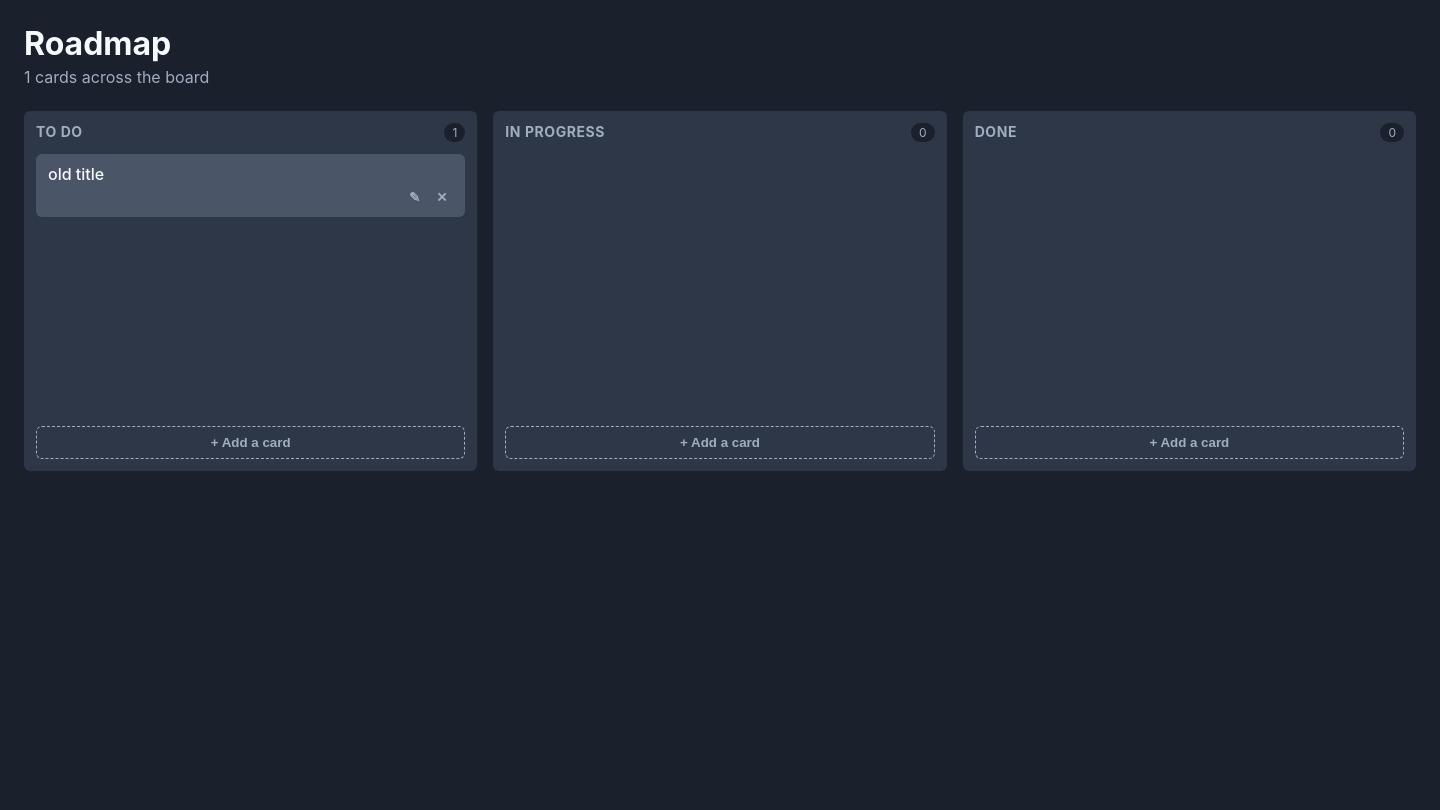
Test: <Board /> › renaming a card updates the title and closes the inline editor
The image size is (1440, 810).
Click the button named "edit old title" at x=415, y=198, box 403,188 -> 426,207
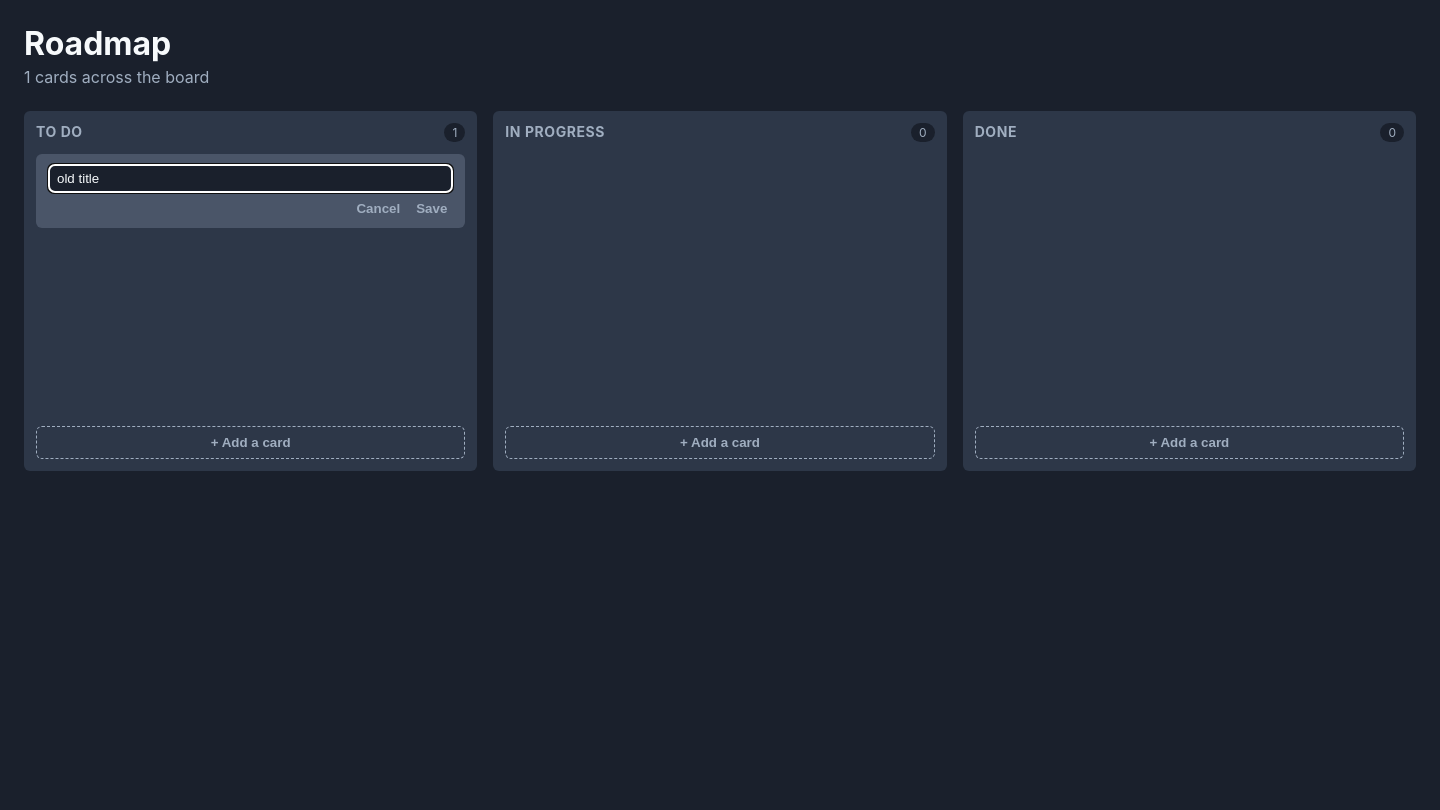
Replace the text in the field named "rename old title" with "shiny new title" at x=251, y=178, box 48,164 -> 453,193
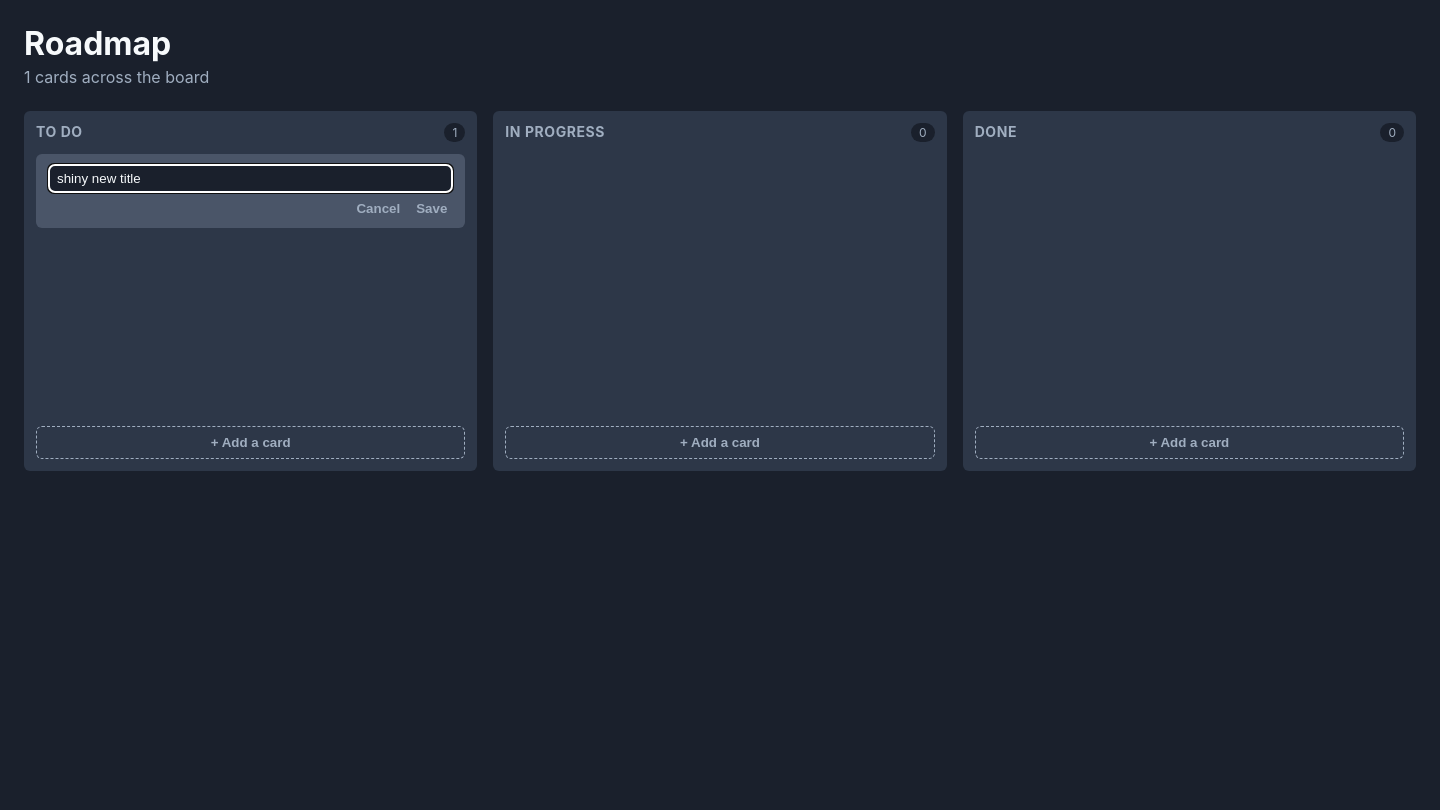
Click the button "Save" at x=432, y=208, box 410,199 -> 453,218
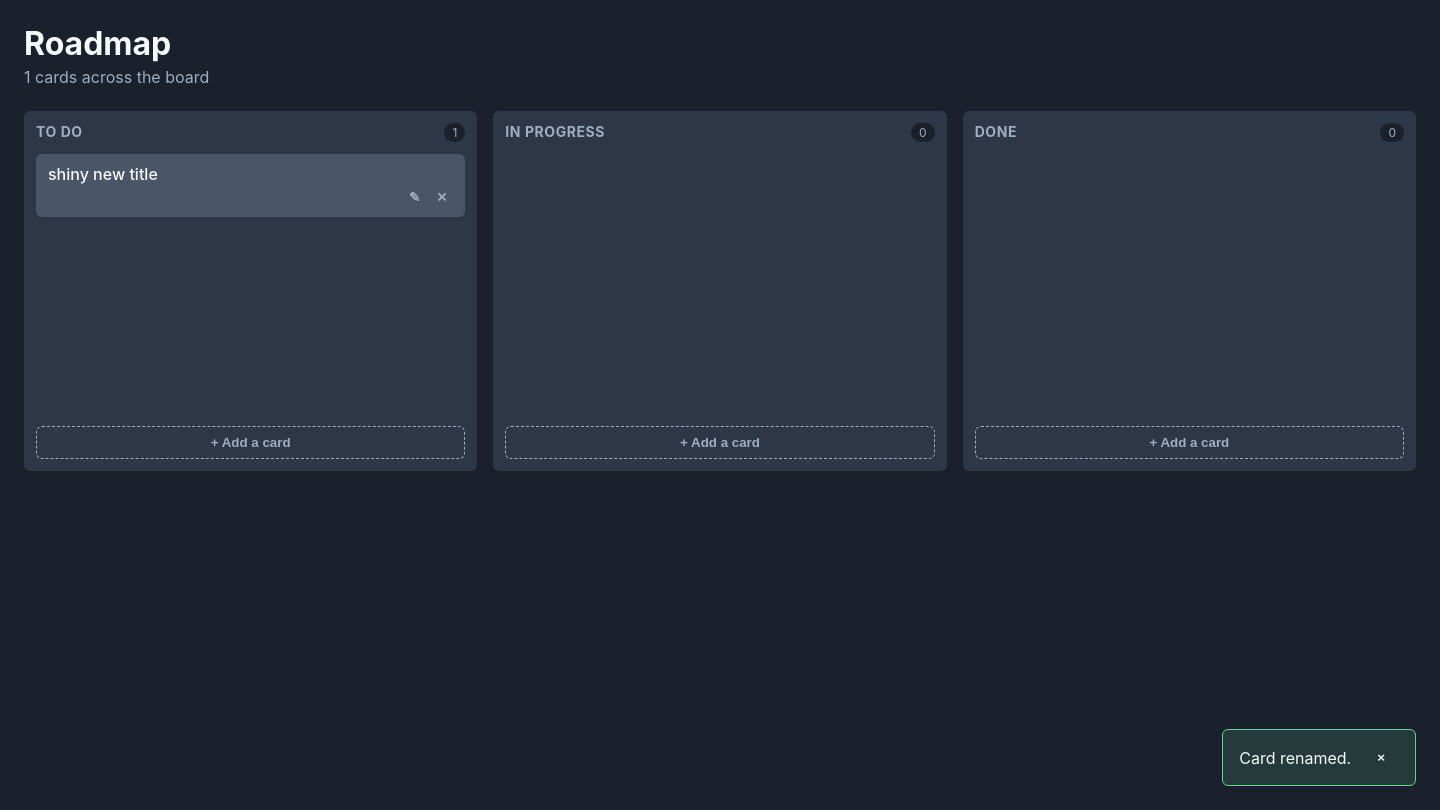
Now the text "shiny new title" is shown, box 48,164 -> 158,184
